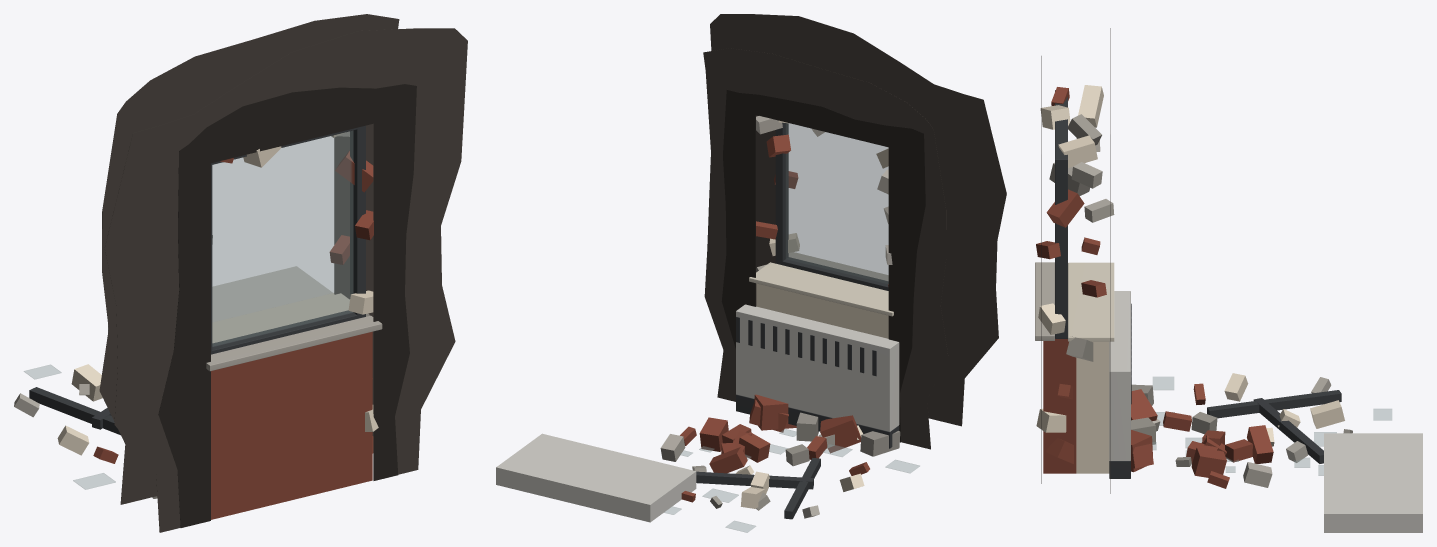
File: prop_breach_window.glb
3 views of the same model, side by side, from view 1: azimuth 30°, elevation 25°; view 2: azimuth 150°, elevation 25°; view 3: azimuth 270°, elevation 25° (orthographic). The views are drawn at different scales.
Visible parts, largest first — view 1: Scorch, Infill, BlownFrame; view 2: Scorch, Infill, BlownFrame; view 3: BlownFrame, Infill, Scorch.
Boxes of the visible parts, bbox=[...] form: Scorch: bbox=[99, 14, 467, 532]; Infill: bbox=[206, 125, 382, 519]; BlownFrame: bbox=[14, 131, 378, 498]; Scorch: bbox=[703, 14, 1006, 449]; Infill: bbox=[736, 122, 899, 448]; BlownFrame: bbox=[496, 116, 919, 532]; BlownFrame: bbox=[1036, 85, 1422, 532]; Infill: bbox=[1035, 90, 1131, 478]; Scorch: bbox=[1041, 28, 1110, 493].
Size of what is drawn, in the model's own units: 2.51 by 2.73 by 2.35.
